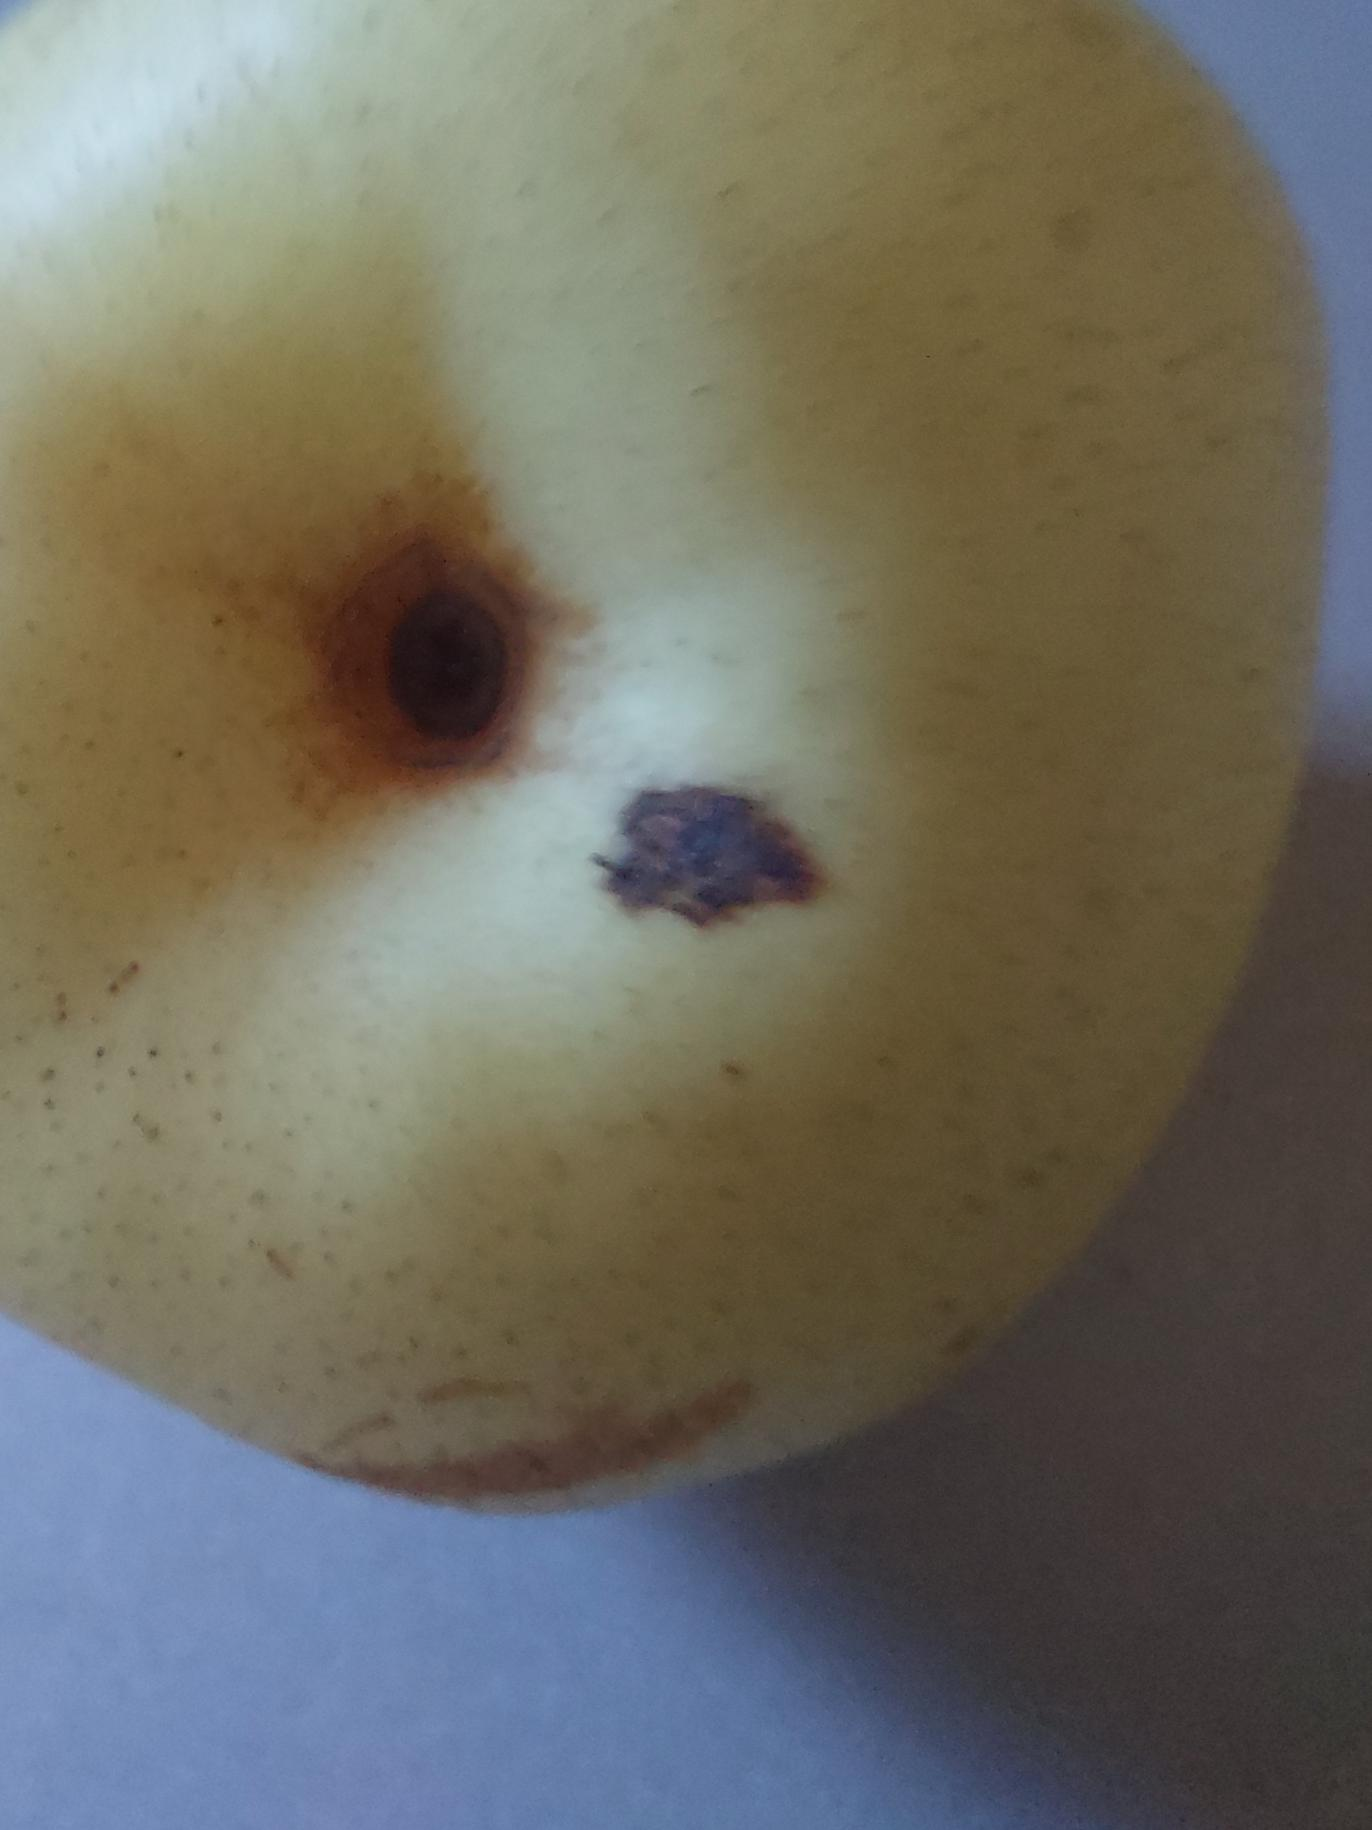Good Pear: (0, 0, 1372, 1569)
